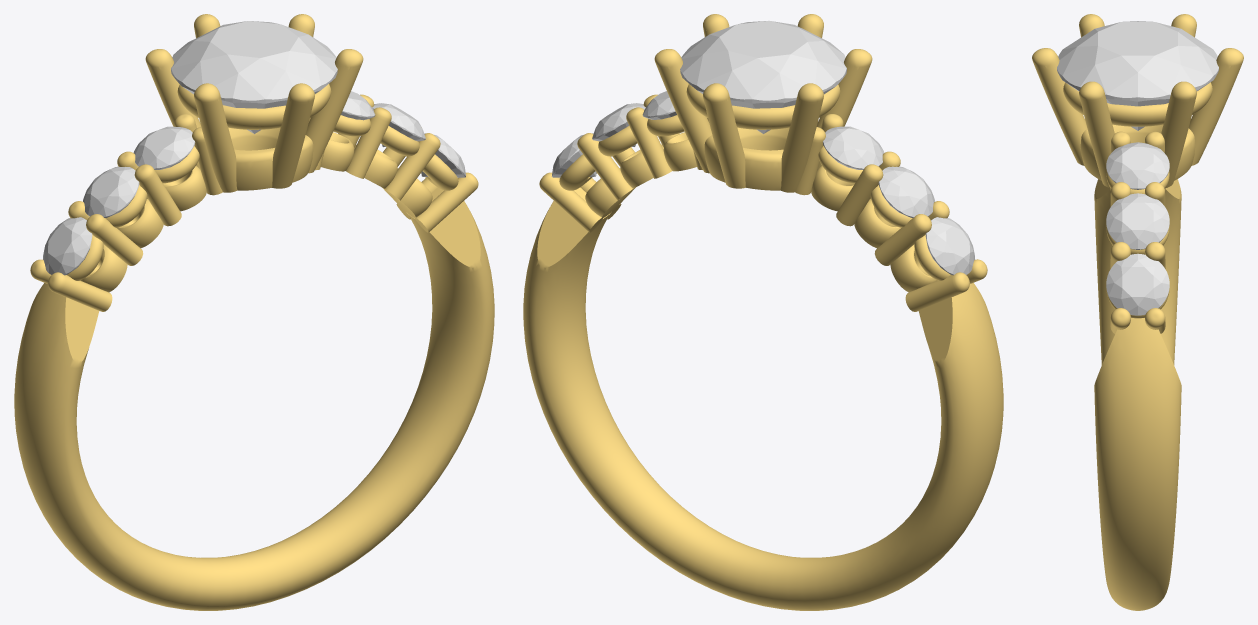
File: diamond-round-yellowgold-6prong-taperedband-3stone.glb
3 views of the same model, side by side, from view 1: azimuth 30°, elevation 25°; view 2: azimuth 150°, elevation 25°; view 3: azimuth 270°, elevation 25° (orthographic). The views are drawn at different scales.
Parts seen in each view (by area): view 1: metal, stone, side.002, side.001, side, side.004, side.003; view 2: metal, stone, side.002, side.001, side, side.004, side.003; view 3: metal, stone, side.005, side.004, side.003.
Boxes of the visible parts, left/top/right/bottom form: metal: left=14, top=14, right=494, bottom=610; stone: left=171, top=21, right=337, bottom=133; side.002: left=43, top=217, right=92, bottom=275; side.001: left=83, top=166, right=139, bottom=217; side: left=133, top=126, right=195, bottom=169; side.004: left=372, top=103, right=425, bottom=147; side.003: left=341, top=91, right=375, bottom=120; metal: left=523, top=14, right=1003, bottom=610; stone: left=680, top=20, right=846, bottom=133; side.002: left=925, top=217, right=974, bottom=275; side.001: left=878, top=166, right=934, bottom=217; side: left=823, top=126, right=884, bottom=169; side.004: left=592, top=103, right=645, bottom=146; side.003: left=642, top=91, right=676, bottom=119; metal: left=1032, top=14, right=1243, bottom=610; stone: left=1057, top=21, right=1218, bottom=130; side.005: left=1106, top=253, right=1169, bottom=315; side.004: left=1106, top=193, right=1169, bottom=249; side.003: left=1106, top=142, right=1169, bottom=189.
Bounding box in the file's own units: 20.49 × 23.81 × 8.35.
